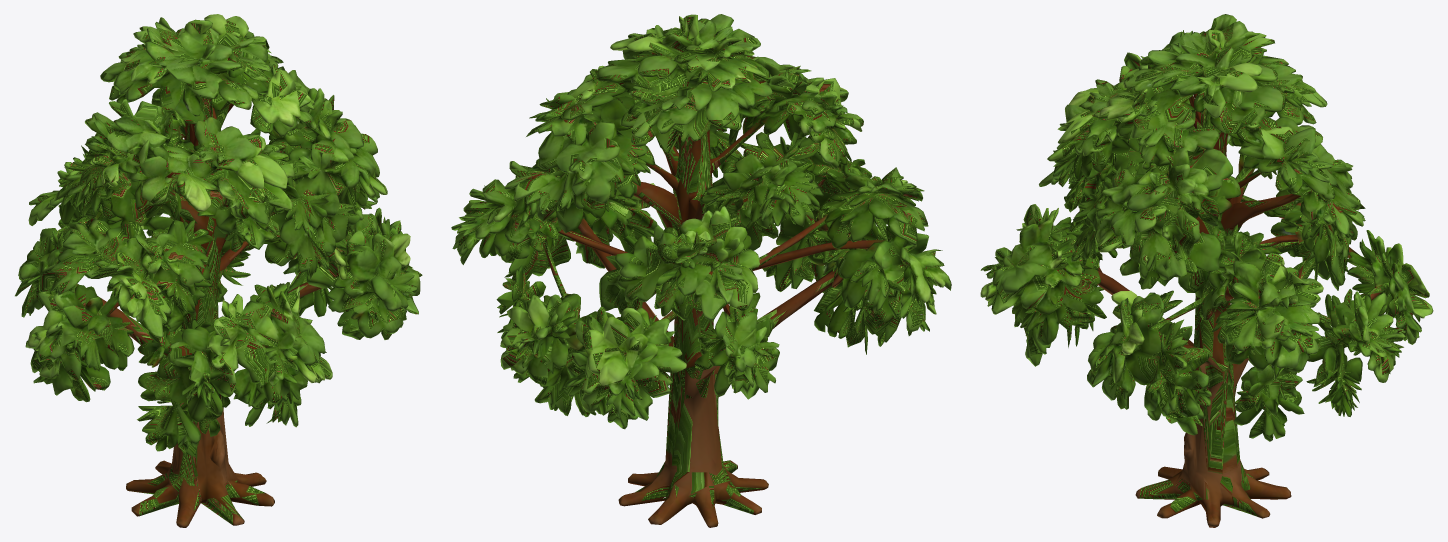
The model's file is forest-tree.glb.
3 views of the same model, side by side, from view 1: azimuth 30°, elevation 25°; view 2: azimuth 150°, elevation 25°; view 3: azimuth 270°, elevation 25° (orthographic). The views are drawn at different scales.
Parts seen in each view (by area): view 1: tripo_node_52eb08d8-8cfa-4fd5-bb5c-90acb7fa84a7; view 2: tripo_node_52eb08d8-8cfa-4fd5-bb5c-90acb7fa84a7; view 3: tripo_node_52eb08d8-8cfa-4fd5-bb5c-90acb7fa84a7.
Boxes of the visible parts, x1,y1,x2,y2 form: tripo_node_52eb08d8-8cfa-4fd5-bb5c-90acb7fa84a7: (15,14,422,527); tripo_node_52eb08d8-8cfa-4fd5-bb5c-90acb7fa84a7: (451,14,951,527); tripo_node_52eb08d8-8cfa-4fd5-bb5c-90acb7fa84a7: (980,14,1433,527).
Bounding box in the file's own units: 0.8766 × 0.9782 × 0.8576.
1 material, 1 textured.
